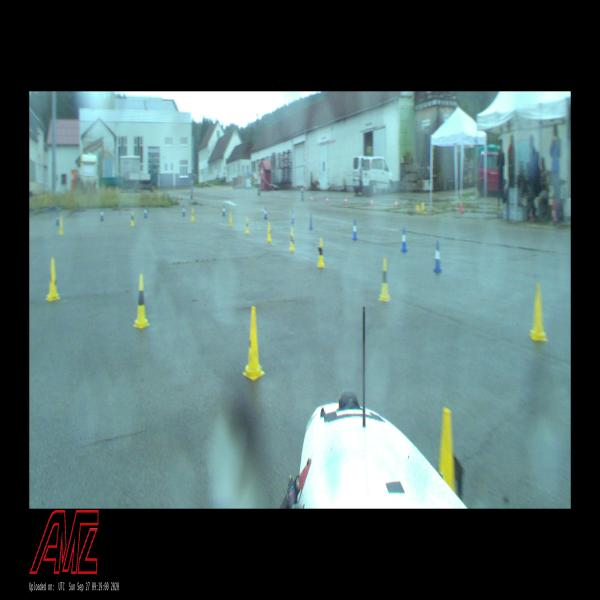blue_cone: (434, 241, 442, 273), (401, 228, 407, 252), (352, 220, 358, 240), (309, 213, 313, 230), (290, 209, 294, 224), (100, 207, 104, 221), (182, 205, 186, 217), (222, 204, 226, 215), (264, 206, 267, 218), (144, 207, 147, 218)
yellow_cone: (242, 307, 266, 380), (438, 408, 455, 493), (530, 284, 548, 341), (133, 274, 150, 328), (46, 258, 60, 300), (378, 258, 391, 302), (317, 239, 326, 268), (58, 216, 64, 235), (289, 228, 294, 250), (267, 223, 272, 243), (245, 216, 249, 234), (229, 211, 233, 226), (130, 212, 134, 226), (191, 209, 195, 222)
